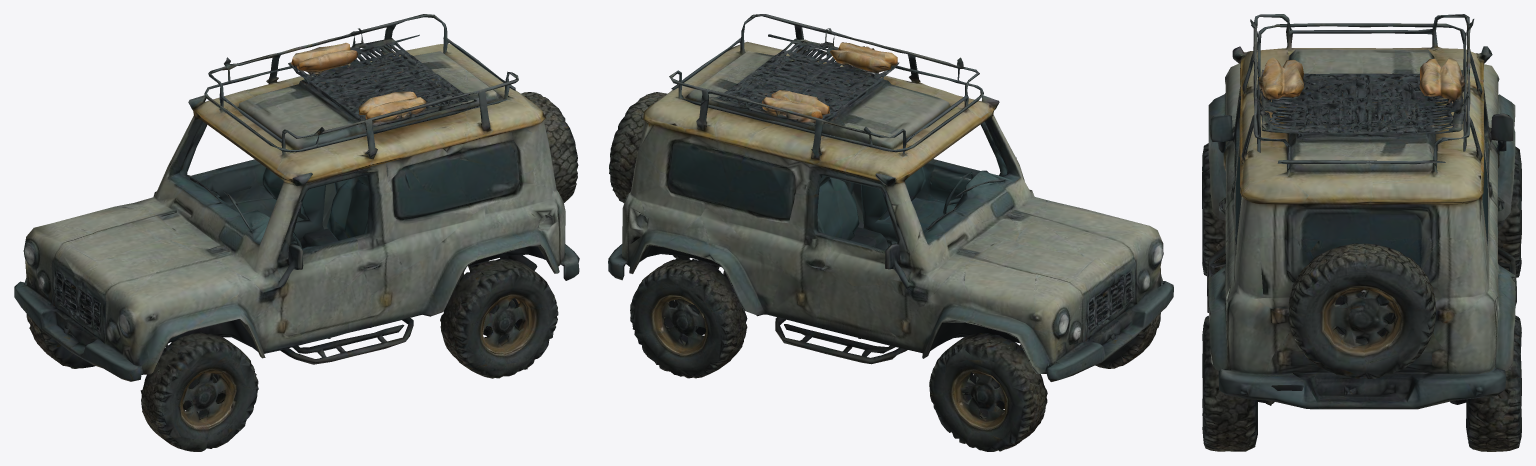
Rendered from car_suv_light_q4.glb.
The picture shows the model from 3 angles, left to right: view 1: azimuth 30°, elevation 25°; view 2: azimuth 150°, elevation 25°; view 3: azimuth 270°, elevation 25°; orthographic projection. The views are drawn at different scales.
Size of the model in its own units: 3.29 by 1.8 by 1.58.
1 material, 1 textured.
